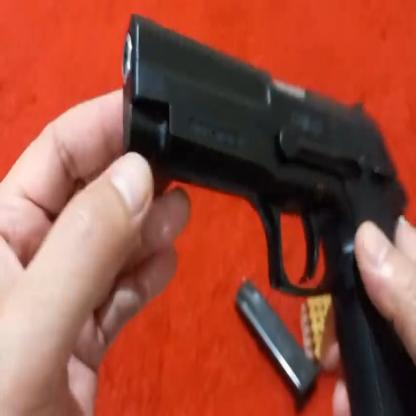handgun: (120, 5, 415, 416)
